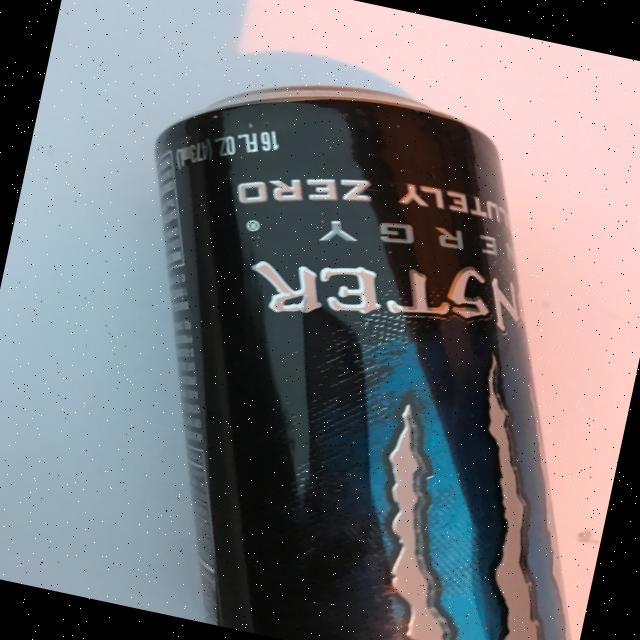metal: (58, 46, 640, 640)
